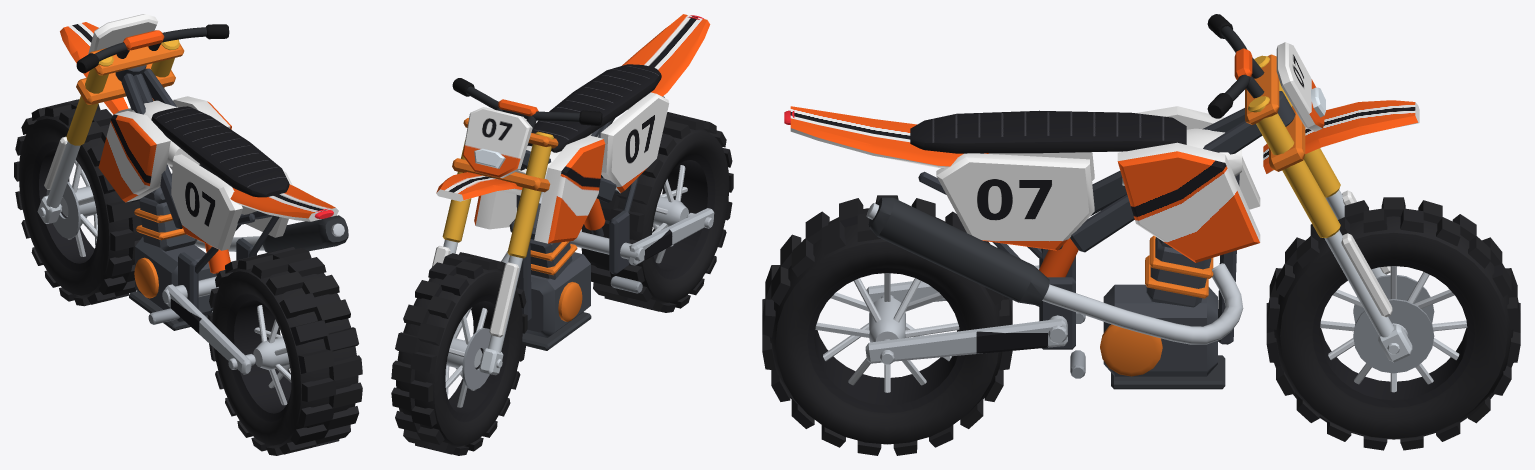
Rendered from MotorcycleTag_DirtBike.glb.
The picture shows the model from 3 angles, left to right: view 1: azimuth 30°, elevation 25°; view 2: azimuth 150°, elevation 25°; view 3: azimuth 270°, elevation 25°; orthographic projection. The views are drawn at different scales.
Visible parts, largest first — view 1: RearWheel, FrontWheel, Bodywork, Seat, Fork, Frame, Engine, Swingarm, Exhaust, Handlebars, FrontPlate, FrontFender; view 2: FrontWheel, RearWheel, Bodywork, Fork, Engine, Seat, Frame, FrontPlate, Swingarm, Handlebars, FrontFender, Headlight; view 3: FrontWheel, RearWheel, Bodywork, Exhaust, Fork, Engine, Seat, Frame, Swingarm, FrontFender, Handlebars, FrontPlate.
Boxes of the visible parts, x1,y1,x2,y2 form: RearWheel: [207, 247, 362, 455]; FrontWheel: [14, 99, 143, 306]; Bodywork: [98, 96, 338, 250]; Seat: [151, 106, 289, 197]; Fork: [37, 39, 184, 223]; Frame: [115, 65, 279, 330]; Engine: [134, 173, 216, 321]; Swingarm: [162, 243, 255, 374]; Exhaust: [194, 215, 348, 252]; Handlebars: [76, 24, 229, 73]; FrontPlate: [88, 14, 157, 54]; FrontFender: [60, 22, 153, 114]; FrontWheel: [391, 252, 527, 455]; RearWheel: [581, 112, 733, 312]; Bodywork: [474, 14, 710, 243]; Fork: [429, 118, 558, 375]; Engine: [509, 203, 590, 337]; Seat: [527, 64, 661, 152]; Frame: [516, 96, 664, 350]; FrontPlate: [462, 107, 532, 178]; Swingarm: [570, 198, 714, 265]; Handlebars: [452, 78, 602, 132]; FrontFender: [436, 172, 522, 201]; Headlight: [474, 148, 505, 168]; FrontWheel: [1266, 197, 1520, 450]; RearWheel: [762, 195, 1012, 455]; Bodywork: [790, 106, 1260, 262]; Exhaust: [866, 197, 1243, 344]; Fork: [1245, 54, 1412, 362]; Engine: [1100, 235, 1217, 376]; Seat: [910, 110, 1186, 153]; Frame: [918, 91, 1295, 389]; Swingarm: [865, 238, 1078, 364]; FrontFender: [1263, 100, 1419, 173]; Handlebars: [1207, 14, 1264, 118]; FrontPlate: [1276, 42, 1324, 131].
Size of the model in its own units: 2.38 by 4.62 by 8.24.
1 material, 1 textured.
